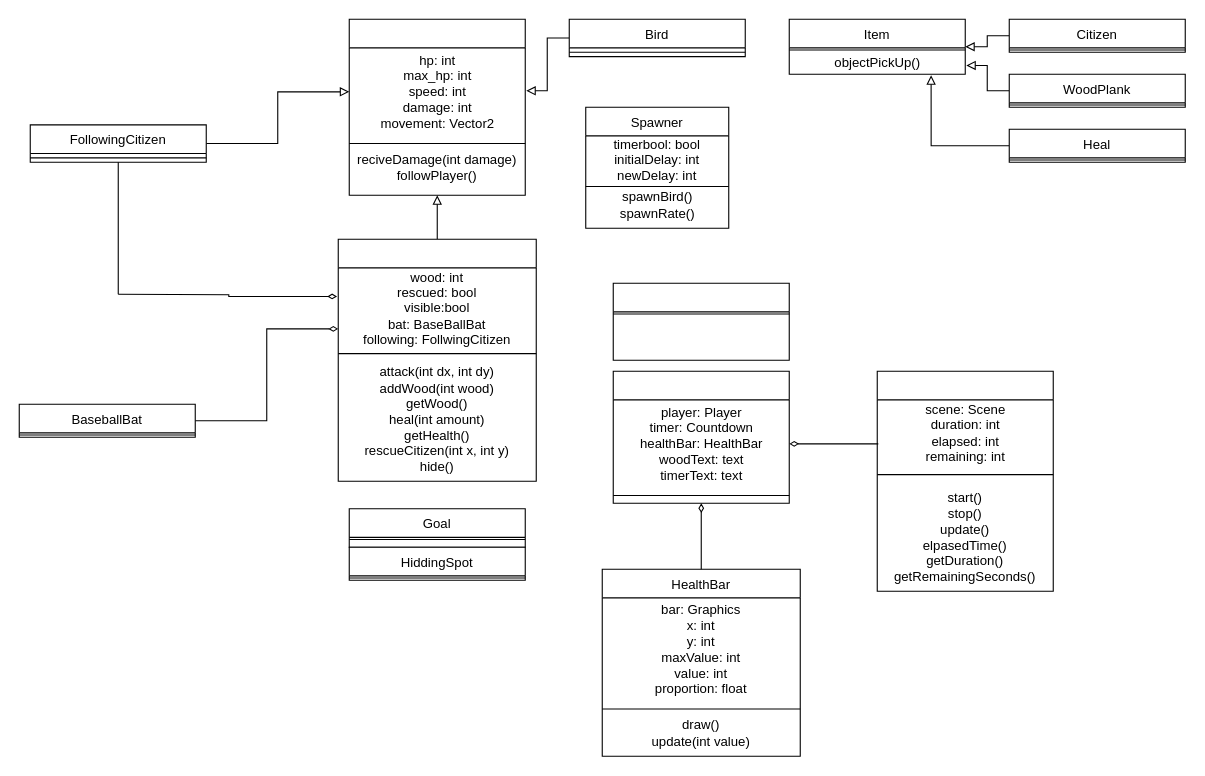
Some shapes in this 1205 by 776 pixel diagram are drawn without their labels. The shapes that lost their labels are listed below. From the top down, each one's box as (x1, y1, x2, y2) in pixels, then its label:
(348, 18, 525, 195): Character
(612, 282, 789, 360): Level
(337, 238, 536, 481): Player
(612, 370, 789, 503): UI
(876, 370, 1053, 591): Countdown
